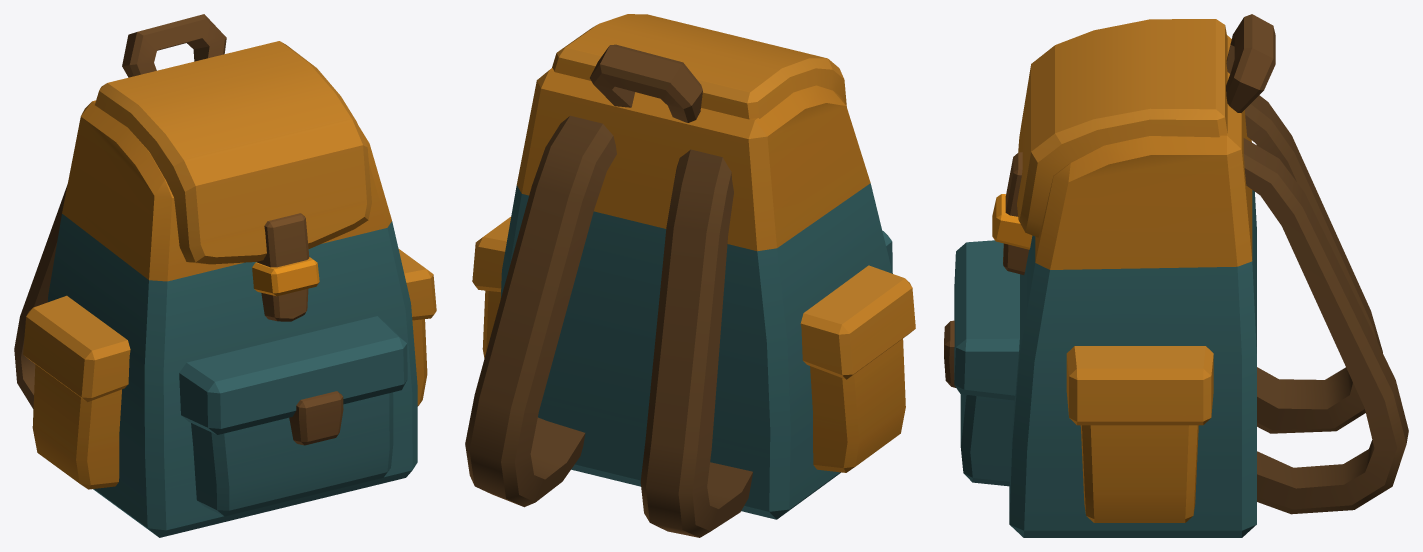
Rendered from SM_Backpack_A.fbx.
The picture shows the model from 3 angles, left to right: view 1: azimuth 30°, elevation 25°; view 2: azimuth 150°, elevation 25°; view 3: azimuth 270°, elevation 25°; orthographic projection. The views are drawn at different scales.
Visible parts, largest first — view 1: SM_Backpack_A; view 2: SM_Backpack_A; view 3: SM_Backpack_A.
Boxes of the visible parts, <box> form: SM_Backpack_A: <box>14,14,436,537</box>; SM_Backpack_A: <box>465,14,915,537</box>; SM_Backpack_A: <box>944,14,1408,537</box>.
Bounding box in the file's own units: 54.57 × 60.11 × 57.52.
